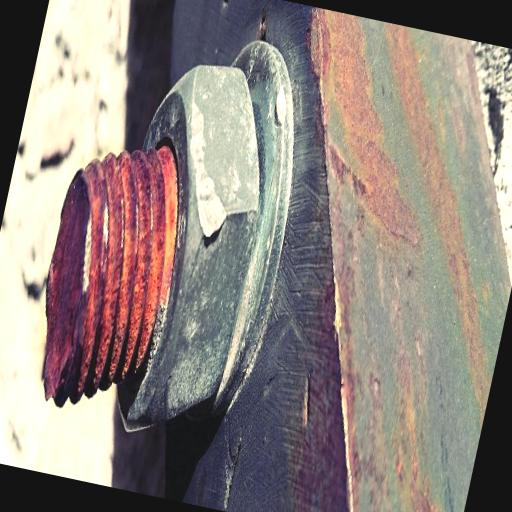segmentation: (388, 27, 490, 418), (44, 146, 178, 405), (312, 8, 410, 231), (318, 8, 382, 133), (344, 85, 381, 153), (333, 42, 355, 106)
